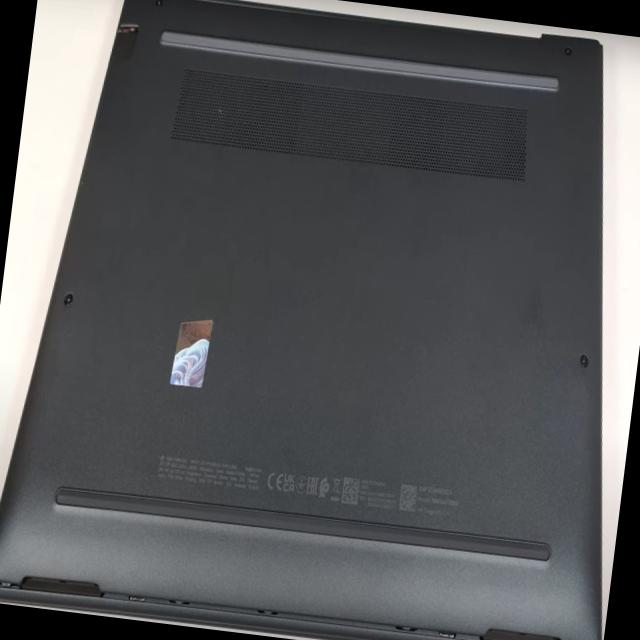outerscrew: (60, 288, 77, 310), (151, 0, 169, 15), (578, 351, 590, 372), (561, 43, 572, 61)
